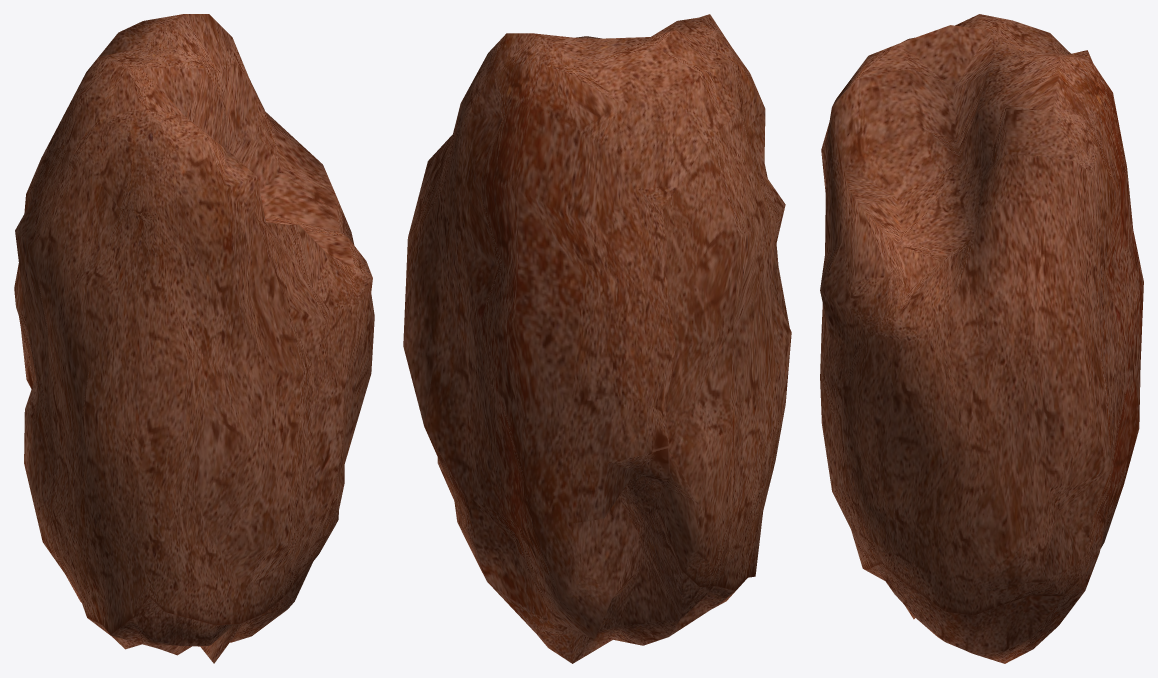
The model's file is Rock_02.fbx.
3 renders of one model, left to right at view 1: azimuth 30°, elevation 25°; view 2: azimuth 150°, elevation 25°; view 3: azimuth 270°, elevation 25°, orthographic. The views are drawn at different scales.
Visible parts, largest first — view 1: Rock_02; view 2: Rock_02; view 3: Rock_02.
Part boxes in pixels (x1,y1,x2,y2): Rock_02: [14, 14, 374, 663]; Rock_02: [403, 14, 791, 663]; Rock_02: [820, 14, 1143, 663].
Bounding box in the file's own units: 10.83 × 19.94 × 9.66.
